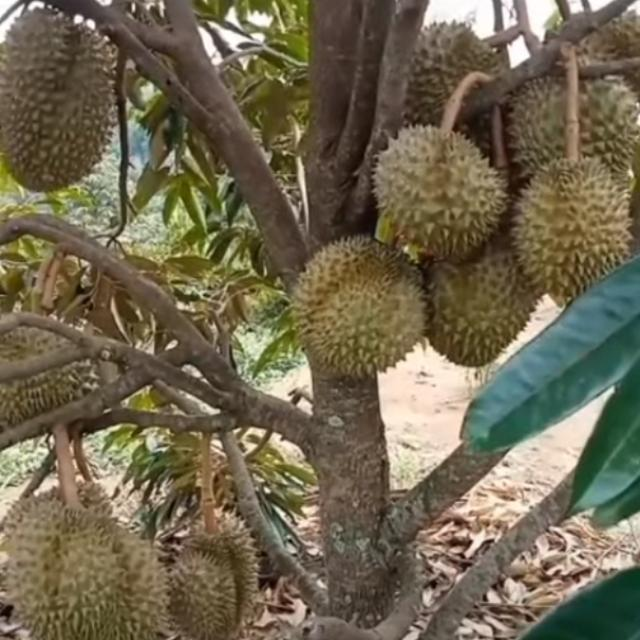mature: (0, 497, 171, 640), (0, 8, 124, 200), (364, 125, 512, 269), (504, 150, 632, 311), (415, 212, 540, 368), (296, 233, 430, 374), (162, 515, 266, 640)
